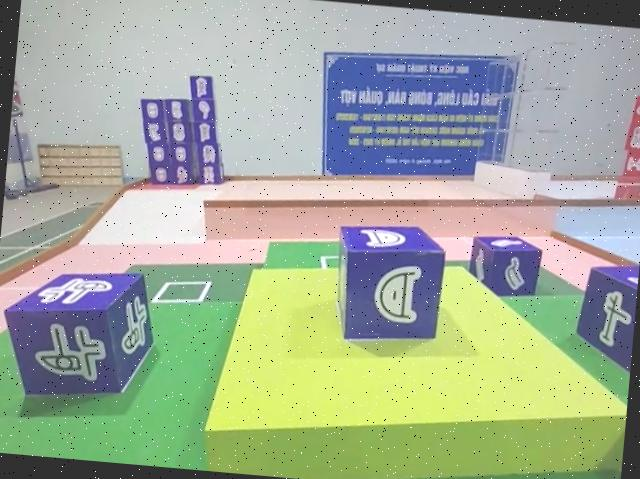R2 Real Blue: (0, 260, 159, 404), (325, 221, 445, 350), (571, 261, 639, 382), (463, 234, 541, 302)
